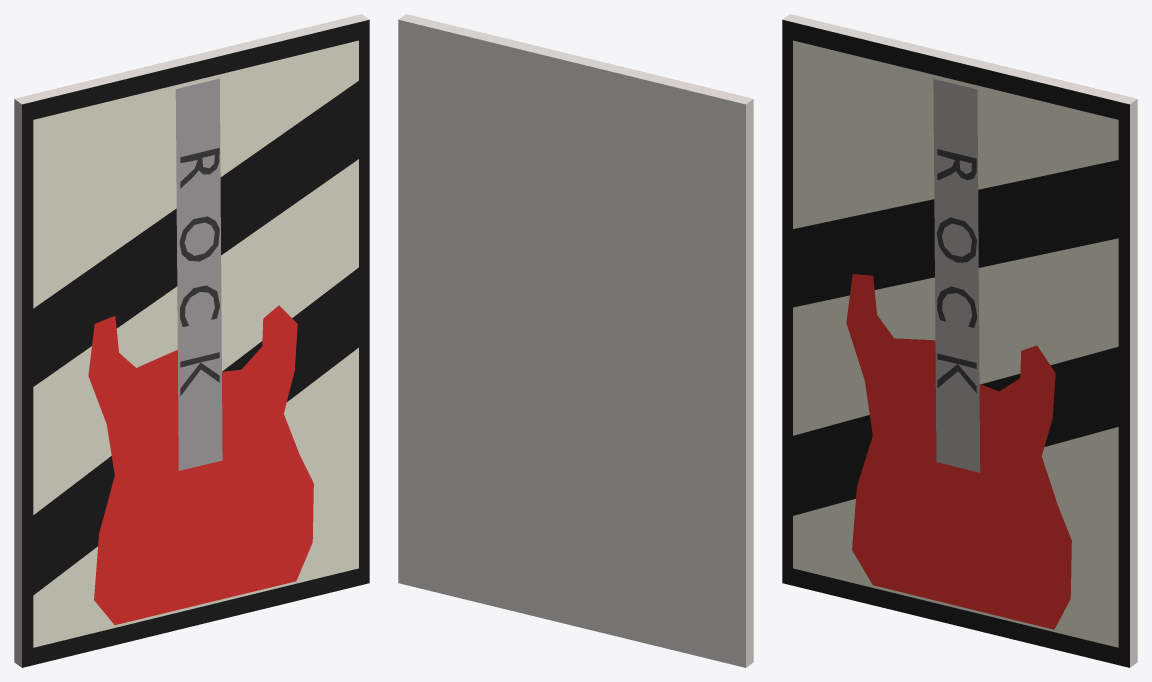
File: picture_038.glb
3 renders of one model, left to right at view 1: azimuth 30°, elevation 25°; view 2: azimuth 150°, elevation 25°; view 3: azimuth 330°, elevation 25°, orthographic.
Visible parts, largest first — view 1: picture_038; view 2: picture_038; view 3: picture_038.
Part boxes in pixels (x1,y1,x2,y2): picture_038: (14, 14, 369, 667); picture_038: (398, 14, 753, 667); picture_038: (782, 14, 1137, 667).
Bounding box in the file's own units: 0.4795 × 0.7427 × 0.0222.
Materials: 1 (1 with a texture image).
